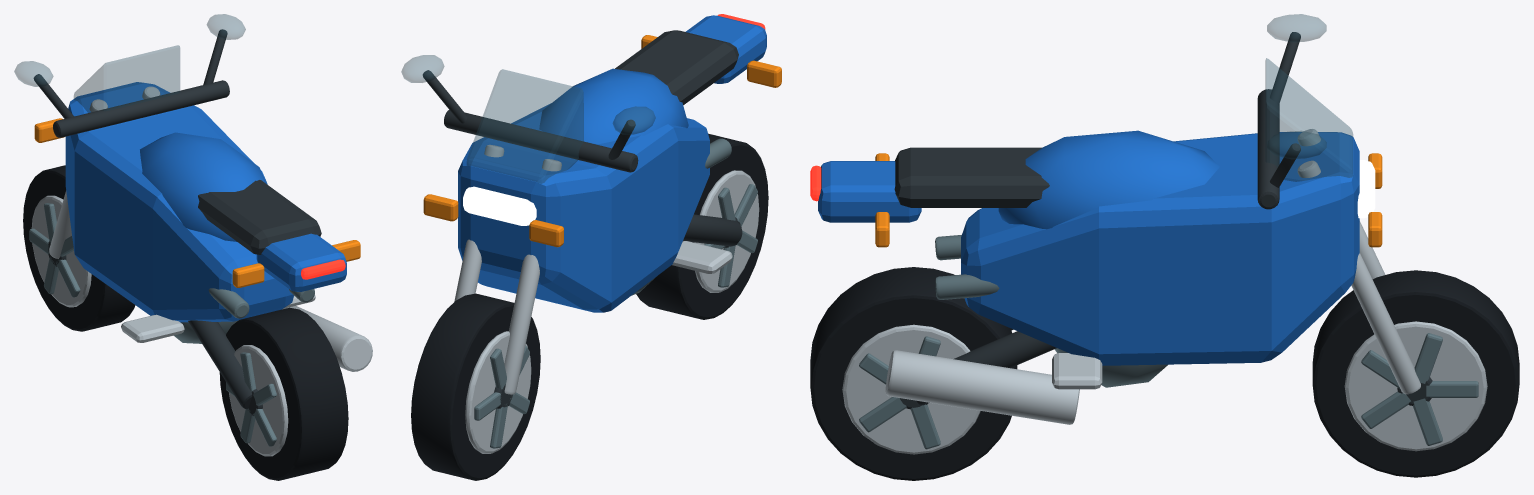
The model's file is bike.glb.
The picture shows the model from 3 angles, left to right: view 1: azimuth 30°, elevation 25°; view 2: azimuth 150°, elevation 25°; view 3: azimuth 270°, elevation 25°; orthographic projection. The views are drawn at different scales.
Parts seen in each view (by area): view 1: Bike_Body.001, Bike_Wheel_R.001, Bike_Tank.001, Bike_Seat.001, Bike_Windscreen.001, Bike_Wheel_F.001, Bike_Tail.001, Bike_Handlebar.001, Bike_Wheel_R_Rim_1.001, Bike_Wheel_F_Rim_1.001, Bike_Swingarm_1.001, Bike_Exhaust.001 (+15 smaller); view 2: Bike_Body.001, Bike_Wheel_F.001, Bike_Windscreen.001, Bike_Tank.001, Bike_Wheel_R.001, Bike_Seat.001, Bike_Handlebar.001, Bike_Wheel_F_Rim_1.001, Bike_Fork_1.001, Bike_Wheel_R_Rim_1.001, Bike_Tail.001, Bike_Lights.001 (+16 smaller); view 3: Bike_Body.001, Bike_Wheel_F.001, Bike_Wheel_R.001, Bike_Tank.001, Bike_Wheel_F_Rim_-1.001, Bike_Exhaust.001, Bike_Seat.001, Bike_Wheel_R_Rim_-1.001, Bike_Windscreen.001, Bike_Tail.001, Bike_Fork_-1.001, Bike_Handlebar.001 (+15 smaller).
Part boxes in pixels (<box>): Bike_Body.001: <box>65,82,293,322</box>; Bike_Wheel_R.001: <box>219,307,348,480</box>; Bike_Tank.001: <box>140,132,266,241</box>; Bike_Seat.001: <box>198,180,321,254</box>; Bike_Windscreen.001: <box>74,45,179,112</box>; Bike_Wheel_F.001: <box>23,165,135,331</box>; Bike_Tail.001: <box>256,233,346,291</box>; Bike_Handlebar.001: <box>53,80,229,137</box>; Bike_Wheel_R_Rim_1.001: <box>229,345,288,456</box>; Bike_Wheel_F_Rim_1.001: <box>31,195,91,307</box>; Bike_Swingarm_1.001: <box>188,320,252,409</box>; Bike_Exhaust.001: <box>282,306,372,371</box>; Bike_Body.001: <box>458,103,709,312</box>; Bike_Wheel_F.001: <box>411,293,540,480</box>; Bike_Windscreen.001: <box>467,69,583,183</box>; Bike_Tank.001: <box>539,68,688,143</box>; Bike_Wheel_R.001: <box>636,133,768,319</box>; Bike_Seat.001: <box>615,30,738,104</box>; Bike_Handlebar.001: <box>444,110,638,172</box>; Bike_Wheel_F_Rim_1.001: <box>465,331,531,453</box>; Bike_Fork_1.001: <box>504,159,561,394</box>; Bike_Wheel_R_Rim_1.001: <box>694,170,759,292</box>; Bike_Tail.001: <box>685,15,766,83</box>; Bike_Lights.001: <box>463,186,536,225</box>; Bike_Body.001: <box>961,132,1359,365</box>; Bike_Wheel_F.001: <box>1312,270,1519,477</box>; Bike_Wheel_R.001: <box>810,267,1017,480</box>; Bike_Tank.001: <box>998,130,1219,229</box>; Bike_Wheel_F_Rim_-1.001: <box>1344,321,1487,451</box>; Bike_Exhaust.001: <box>885,350,1079,424</box>; Bike_Seat.001: <box>894,147,1049,207</box>; Bike_Wheel_R_Rim_-1.001: <box>842,324,980,454</box>; Bike_Windscreen.001: <box>1265,58,1352,181</box>; Bike_Tail.001: <box>818,161,921,222</box>; Bike_Fork_-1.001: <box>1297,160,1420,394</box>; Bike_Handlebar.001: <box>1257,89,1279,209</box>.
Size of the model in its own units: 1.02 by 1.38 by 2.26.
